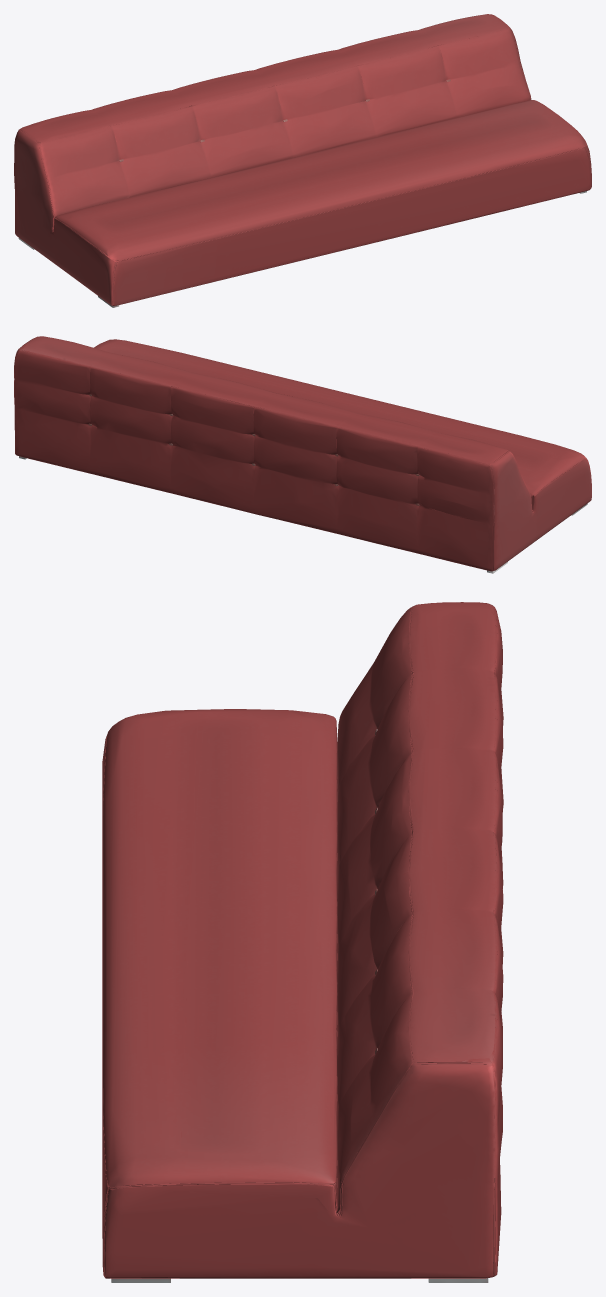
File: raw_model.obj
3 views of the same model, one above another, from view 1: azimuth 30°, elevation 25°; view 2: azimuth 150°, elevation 25°; view 3: azimuth 270°, elevation 25° (orthographic). The views are drawn at different scales.
Visible parts, largest first — view 1: solid_003; view 2: solid_003; view 3: solid_003.
Part boxes in pixels (x1=…): solid_003: x1=14, y1=14, x2=591, y2=306; solid_003: x1=14, y1=336, x2=591, y2=571; solid_003: x1=102, y1=602, x2=503, y2=1278.
Size of the model in its own units: 2.84 by 0.6306 by 1.02.
Materials: 1 (1 with a texture image).
